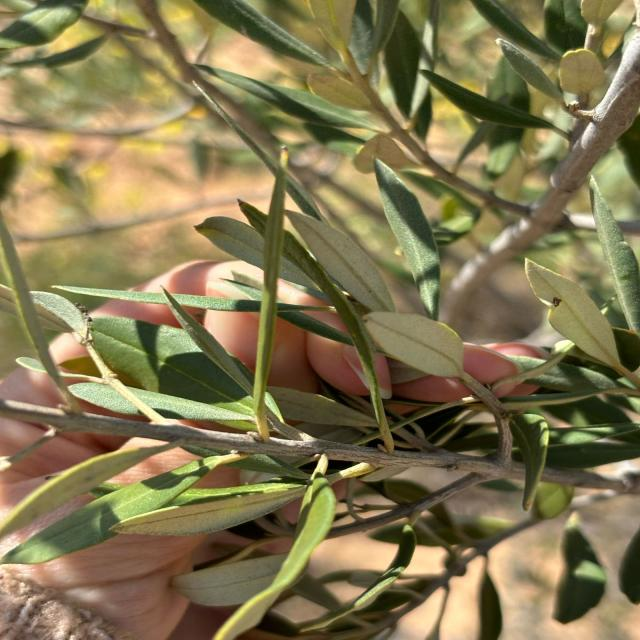Healthy: (0, 458, 216, 564), (286, 210, 395, 311), (374, 160, 440, 320), (421, 70, 568, 138), (363, 312, 471, 384), (509, 414, 550, 510)
